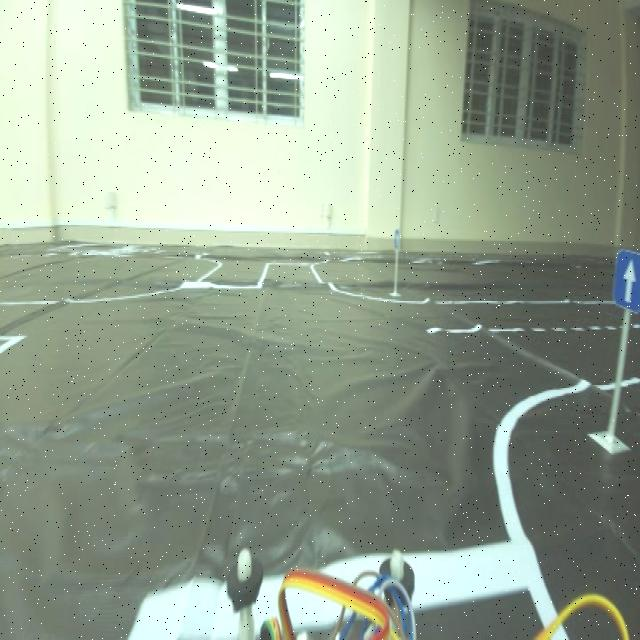onewayroad: (613, 250, 640, 322), (393, 224, 401, 245)
